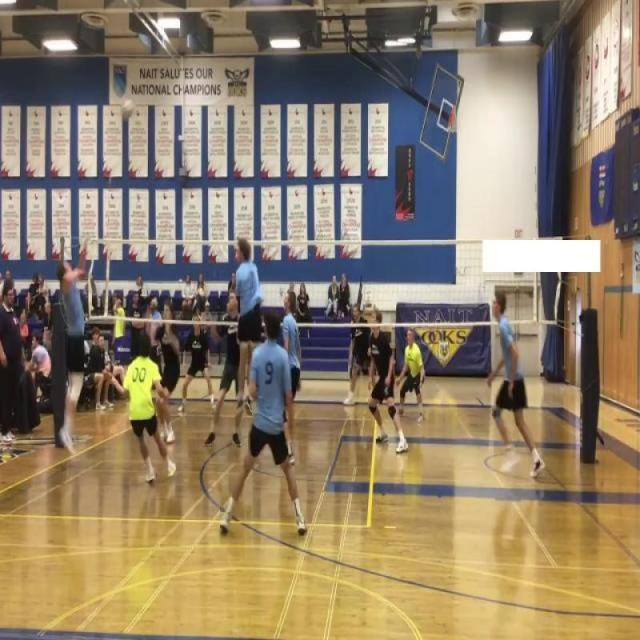volleyball: (119, 98, 136, 121)
